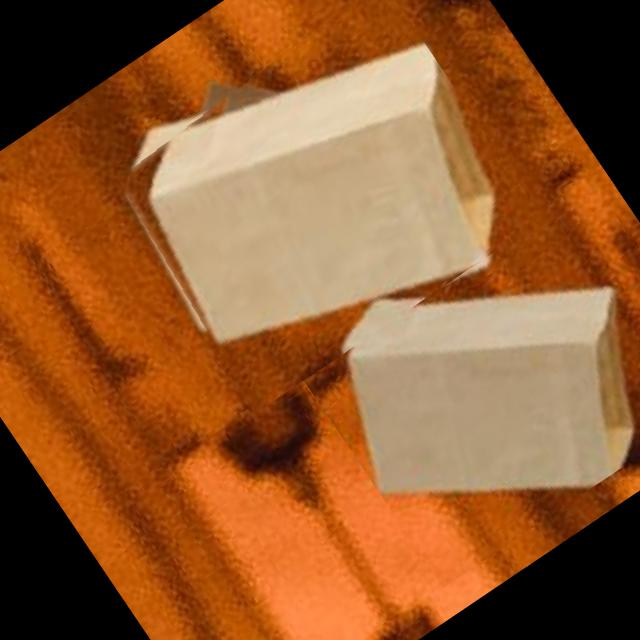PaperCardboard: (149, 44, 492, 341), (348, 290, 633, 495)
